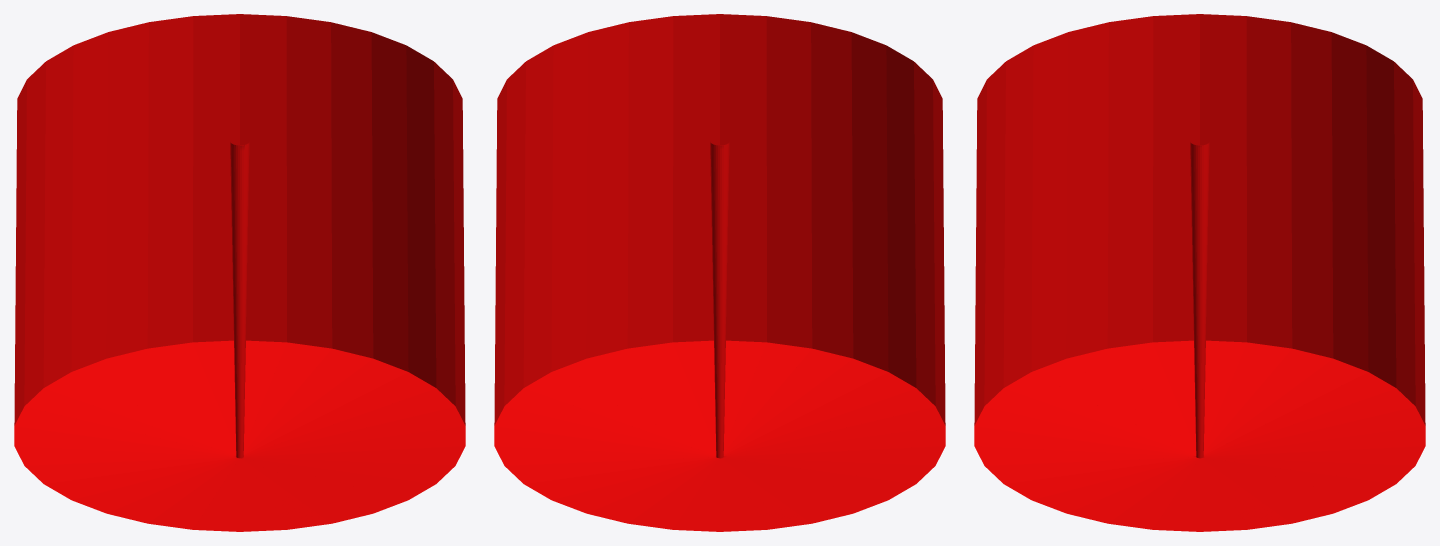
3 renders of one model, left to right at view 1: azimuth 30°, elevation 25°; view 2: azimuth 150°, elevation 25°; view 3: azimuth 270°, elevation 25°, orthographic.
Visible parts, largest first — view 1: algeomath (1); view 2: algeomath (1); view 3: algeomath (1).
Part boxes in pixels (x1,y1,x2,y2): algeomath (1): [14, 14, 465, 531]; algeomath (1): [494, 14, 945, 531]; algeomath (1): [974, 14, 1425, 531].
Size of the model in its own units: 0.3 by 0.254 by 0.2984.
1 material, 1 textured.
